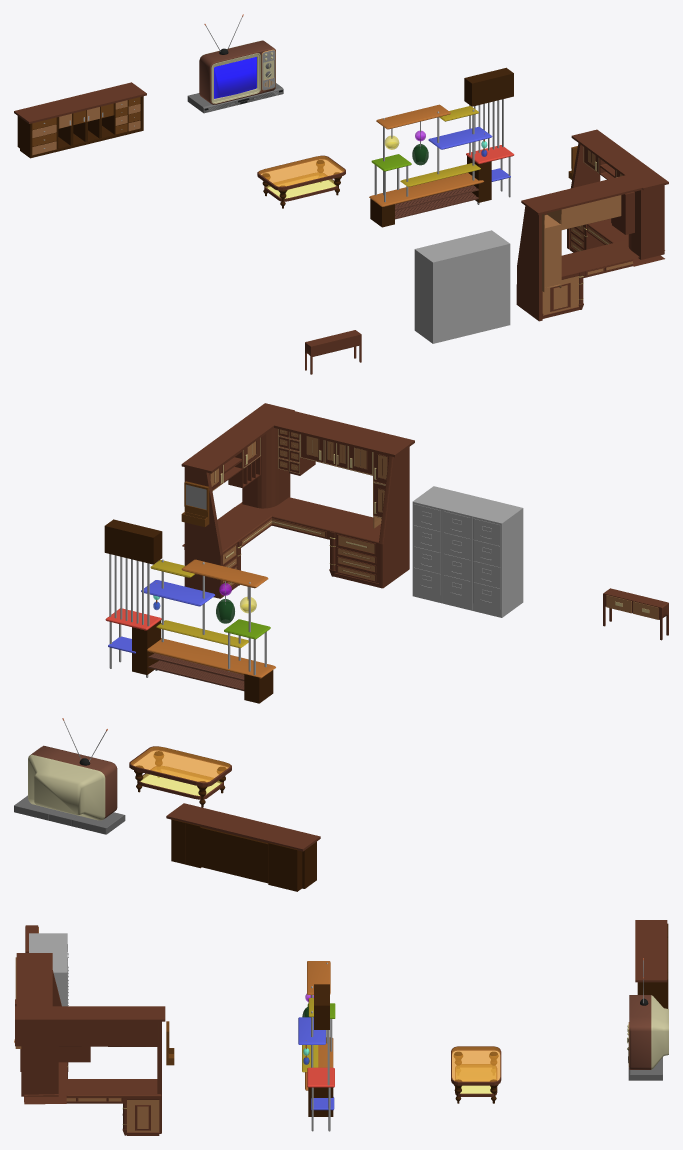
File: Living Room.fbx
The picture shows the model from 3 angles, top to bottom: view 1: azimuth 30°, elevation 25°; view 2: azimuth 150°, elevation 25°; view 3: azimuth 270°, elevation 25°; orthographic projection. The views are drawn at different scales.
Parts seen in each view (by area): view 1: Cabinets.003, Cube.495, FilingCabnit, Cube.486, TVScreen, Cube.473, LivingRoom_Cabinets.003, VHSplayer.001; view 2: Cabinets.003, Cube.495, FilingCabnit, Cube.486, TVScreen, Cube.473, LivingRoom_Cabinets.003, VHSplayer.001; view 3: Cabinets.003, Cube.495, TVScreen, Cube.486, Cube.473, FilingCabnit, VHSplayer.001.
Boxes of the visible parts, x1,y1,x2,y2 form: Cabinets.003: [516, 129, 668, 321]; Cube.495: [369, 67, 514, 227]; FilingCabnit: [414, 230, 510, 343]; Cube.486: [14, 82, 146, 158]; TVScreen: [199, 14, 275, 104]; Cube.473: [257, 155, 345, 208]; LivingRoom_Cabinets.003: [305, 330, 361, 374]; VHSplayer.001: [187, 83, 283, 113]; Cabinets.003: [181, 403, 414, 598]; Cube.495: [104, 519, 275, 703]; FilingCabnit: [412, 486, 523, 617]; Cube.486: [166, 803, 320, 891]; TVScreen: [28, 718, 117, 820]; Cube.473: [129, 746, 231, 807]; LivingRoom_Cabinets.003: [603, 588, 668, 640]; VHSplayer.001: [14, 795, 125, 834]; Cabinets.003: [14, 953, 174, 1135]; Cube.495: [298, 961, 335, 1131]; TVScreen: [627, 958, 668, 1069]; Cube.486: [635, 920, 668, 1008]; Cube.473: [451, 1046, 501, 1103]; FilingCabnit: [29, 933, 68, 1006]; VHSplayer.001: [628, 1051, 662, 1080].
Size of the model in its own units: 928 by 364 by 1416.
